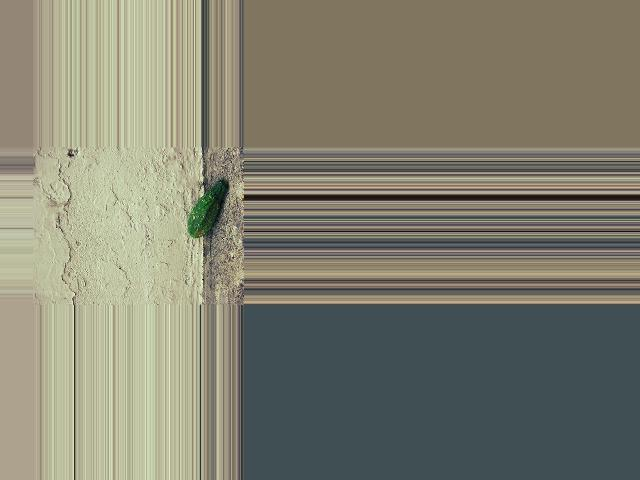cucumber: (186, 181, 227, 238)
